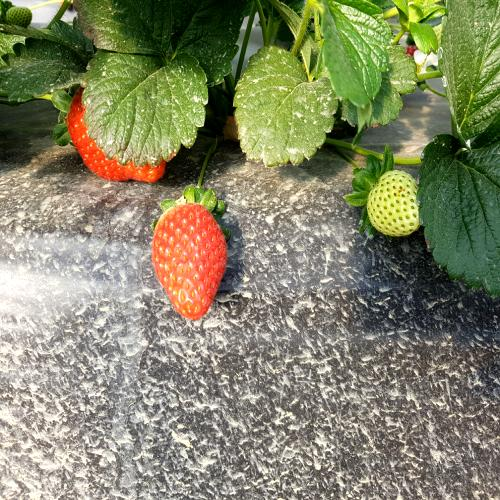ripe: (144, 200, 232, 328)
